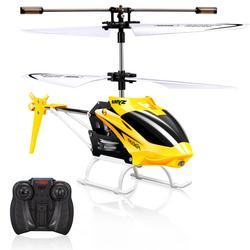drone: (18, 5, 247, 196)
